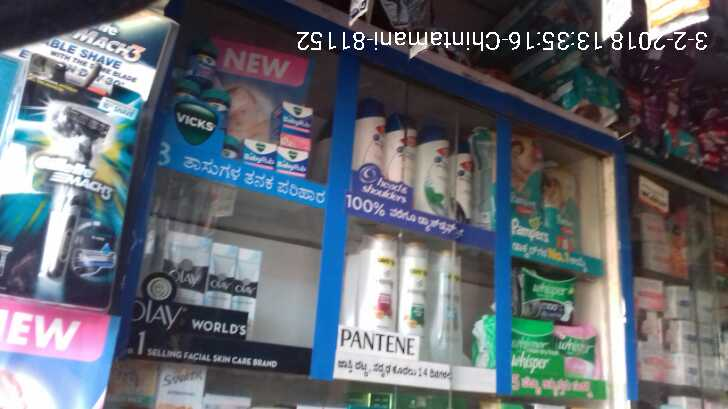beauty: (161, 231, 208, 308), (362, 232, 397, 334), (403, 237, 431, 361), (229, 246, 265, 342), (434, 246, 463, 365), (416, 127, 448, 214), (358, 95, 387, 177), (204, 241, 240, 306), (386, 108, 411, 184)
pharmacy: (513, 264, 576, 320), (545, 162, 582, 243), (509, 318, 558, 377), (554, 332, 603, 387), (512, 134, 541, 217), (271, 100, 310, 149), (186, 42, 220, 85), (241, 135, 275, 172), (279, 144, 307, 174)
